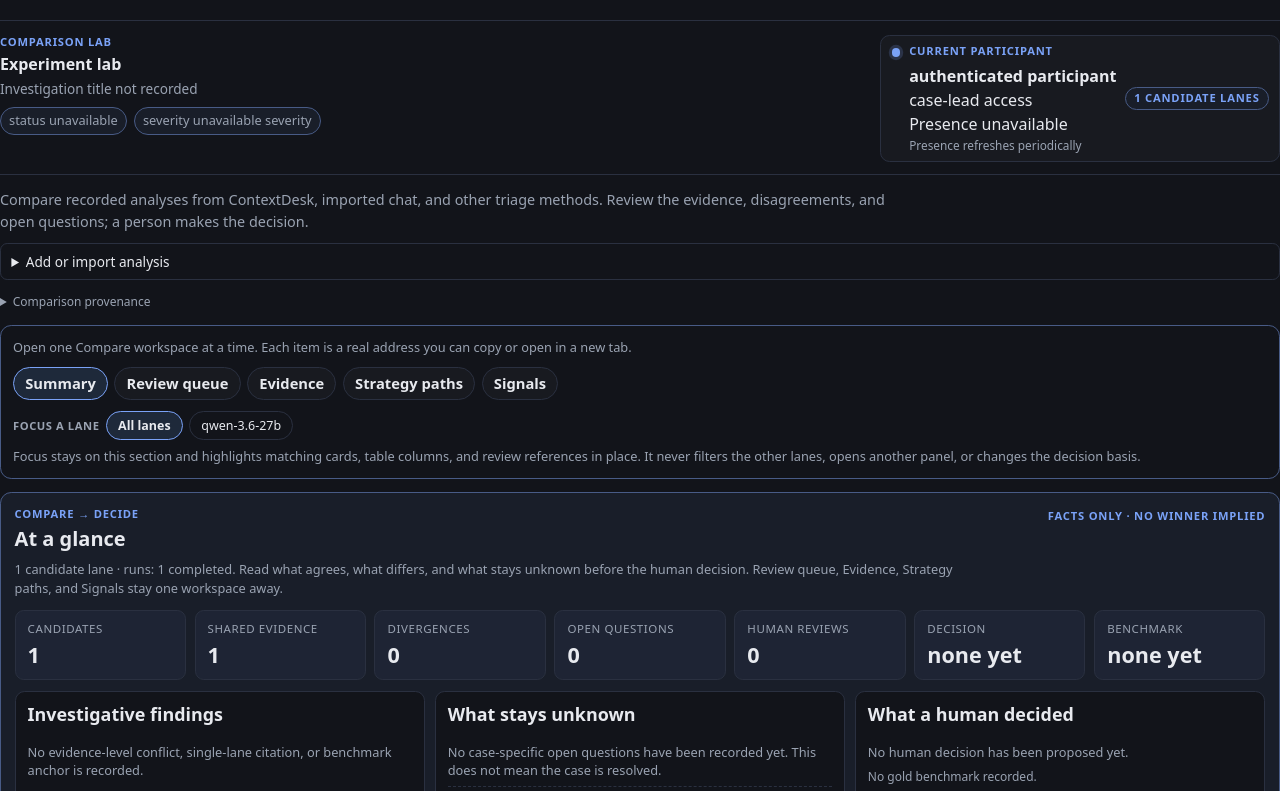
Test: experiment lab › renders the candidate matrix and agreement caveat
Expected: the button "qwen-3.6-27b" is shown, [189, 412, 293, 440]
Expected: the navigation bar "Compare workspace" is shown, [0, 325, 1279, 479]
Click the link "Strategy paths": (409, 384) [343, 367, 475, 400]
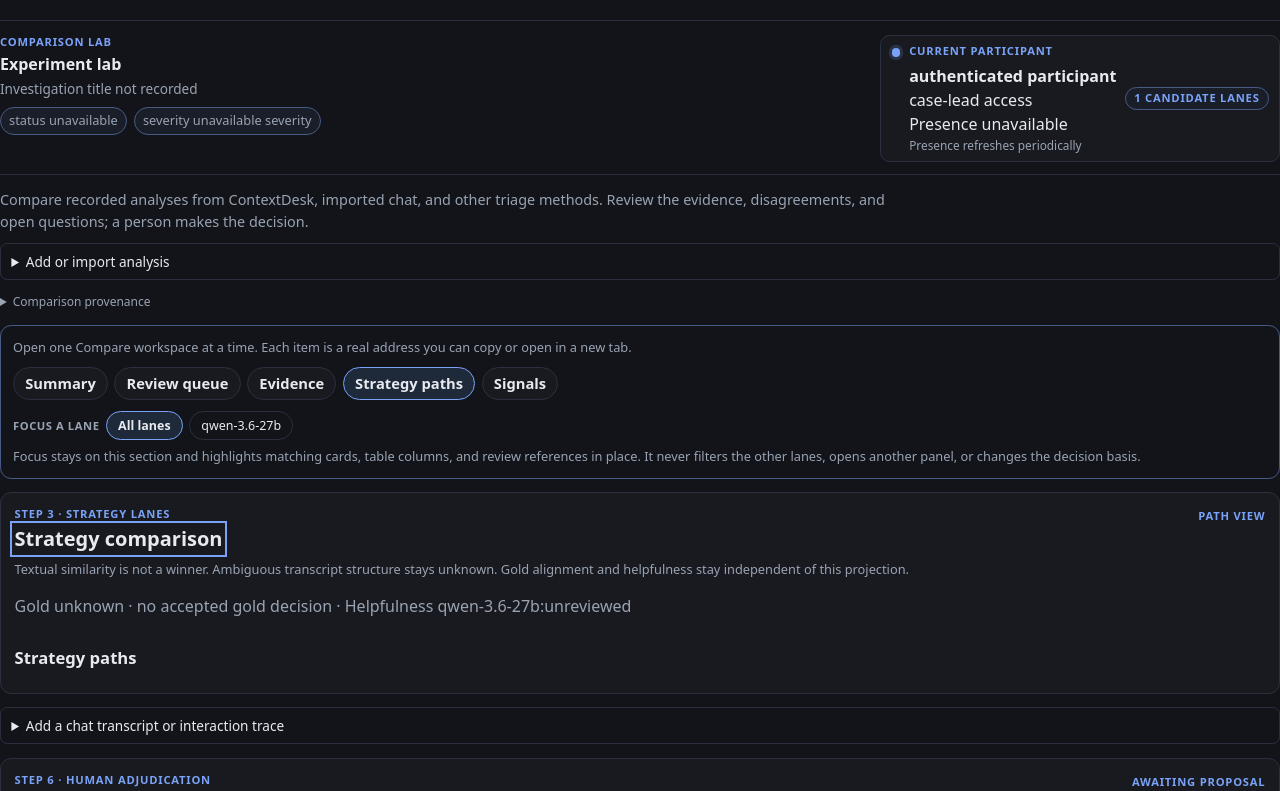
Expected: the text "a person makes the decision" is shown, [0, 190, 885, 231]
Now the heading "Strategy comparison" is shown, box [15, 526, 222, 552]
